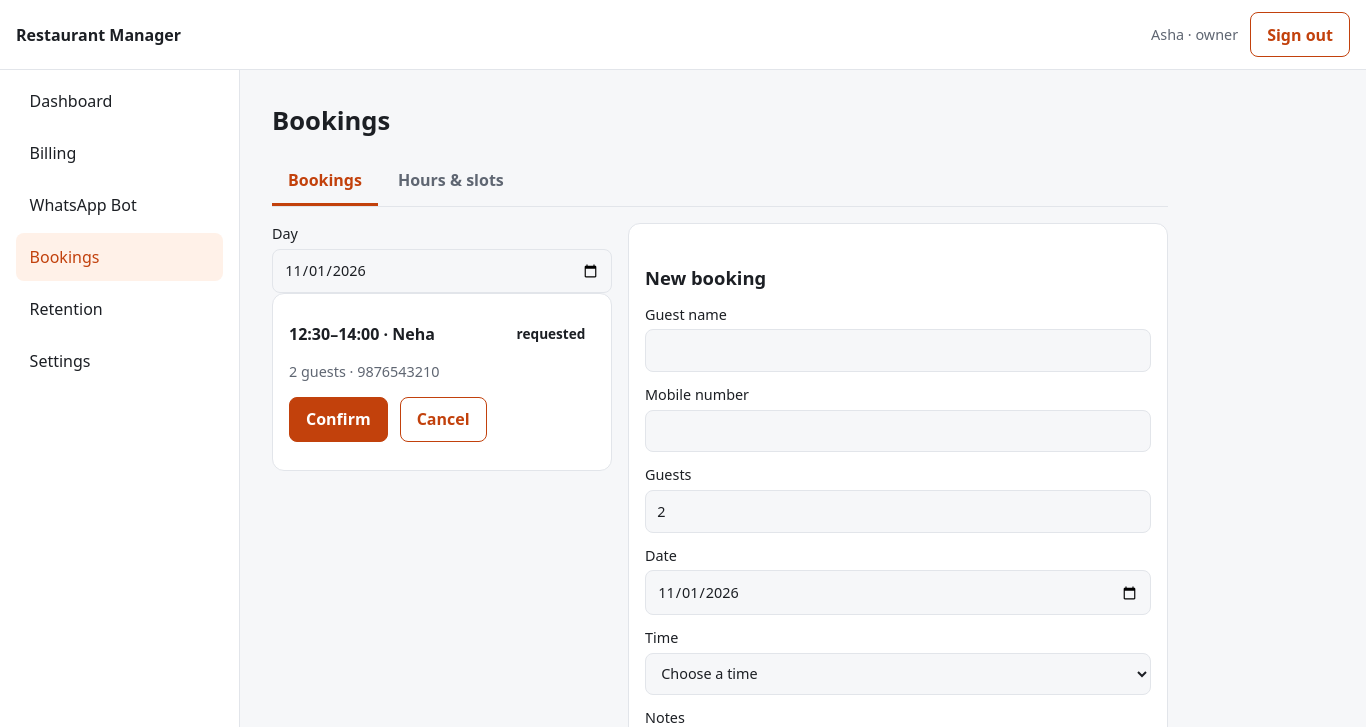
Test: Bookings page › shows the error when a booking is rejected
The image size is (1366, 727).
In the field labelled "Guest name": point(898, 351) [645,329,1151,372], type "Ravi"
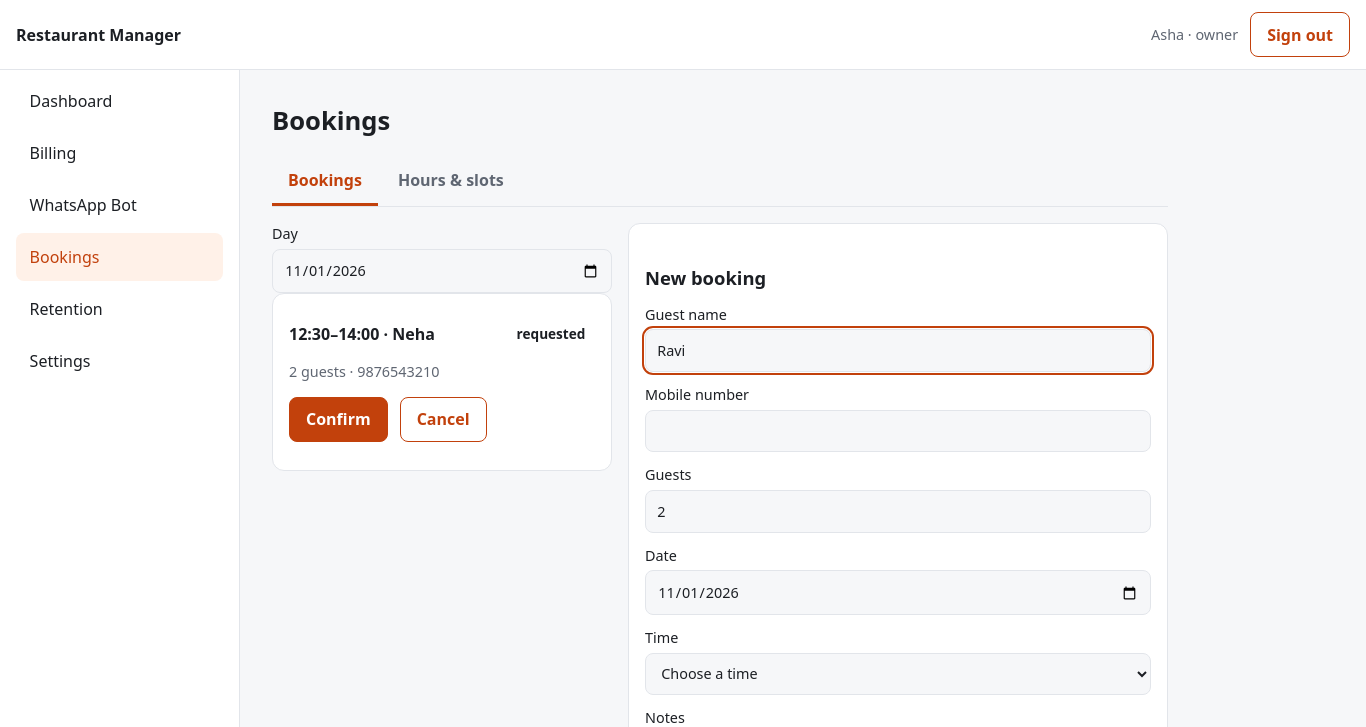
In the field labelled "Mobile number": point(898, 431) [645,410,1151,452], type "9811111111"
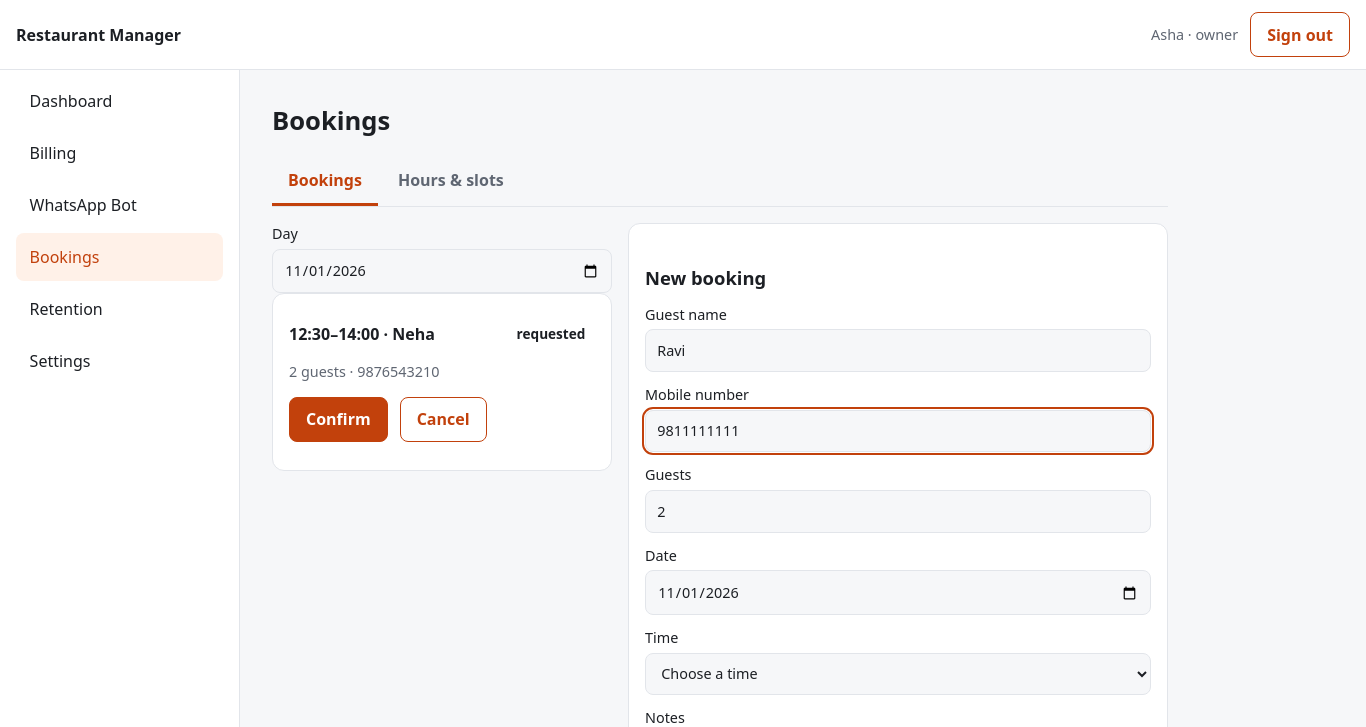
Select "14:00" in the dropdown labelled "Time": point(898, 674) [645,653,1151,695]
(page scrolled)
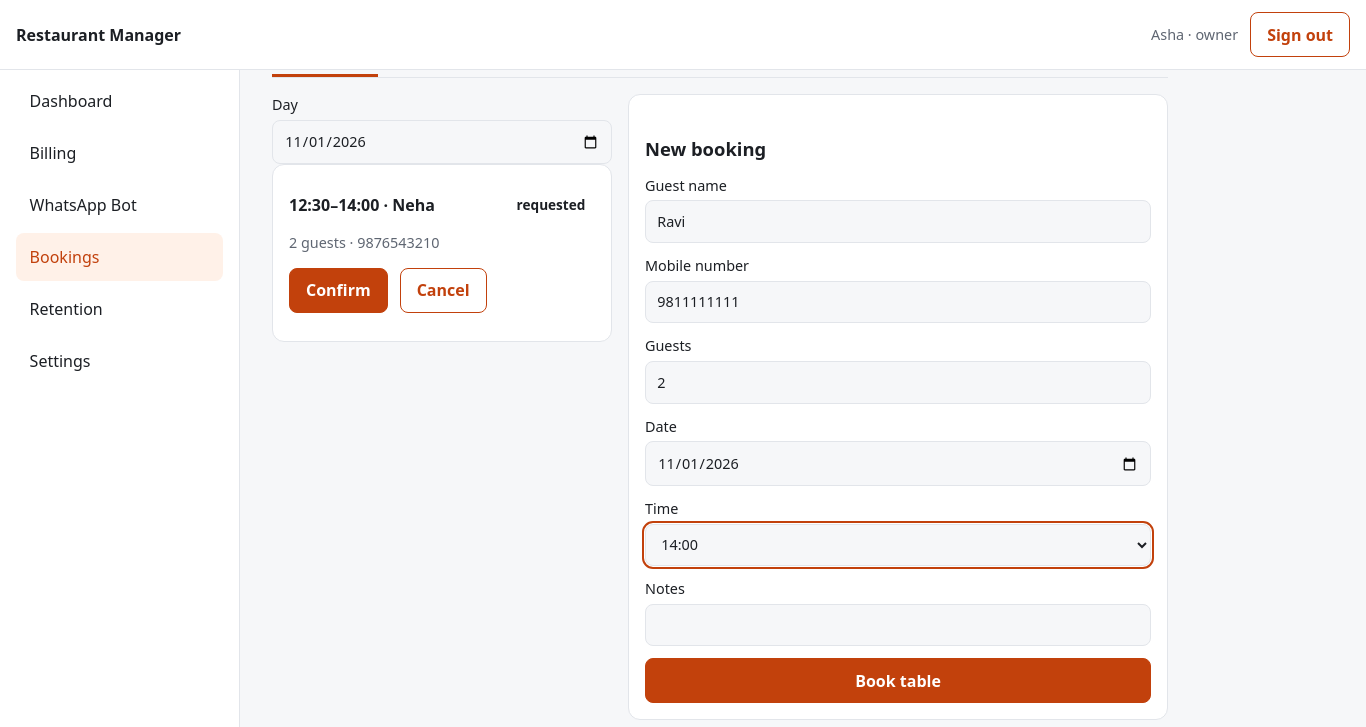
Click the button "Book table": point(898, 681) [645,658,1151,704]
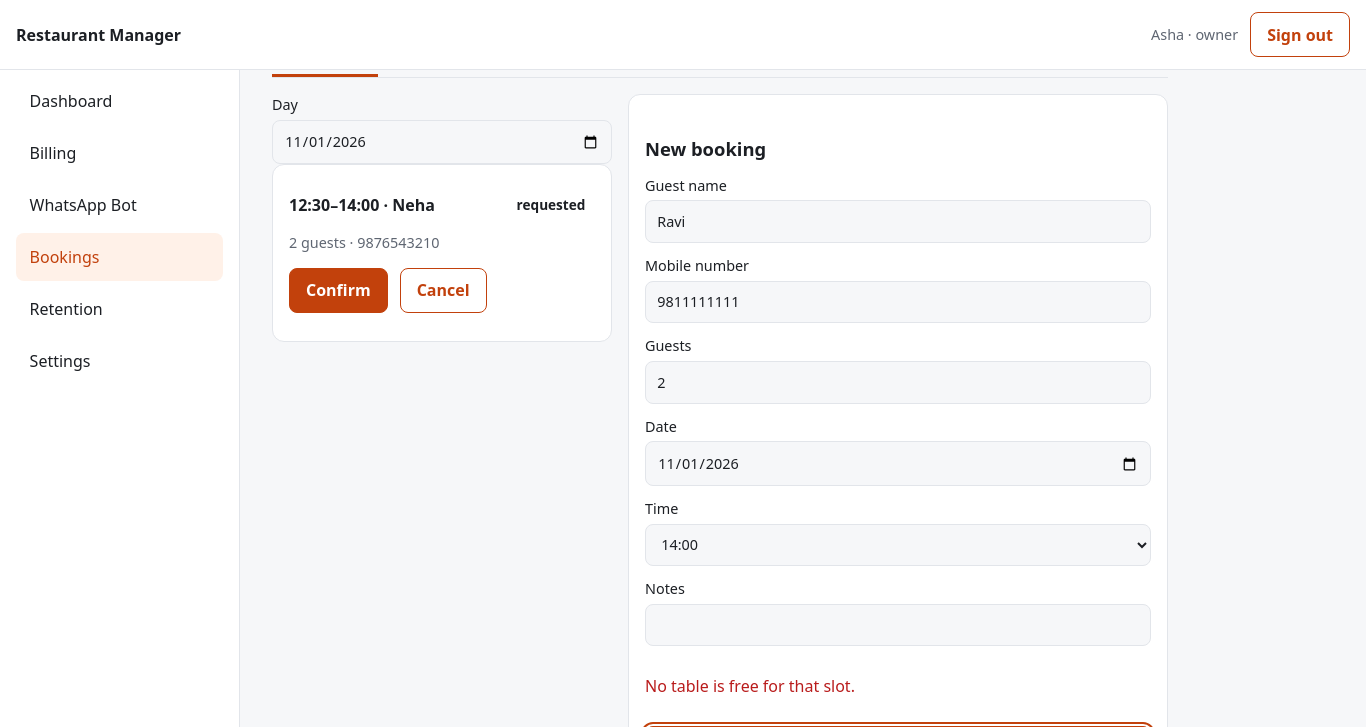
Now the message reads "No table is free for that slot.", box [645,675,855,697]
